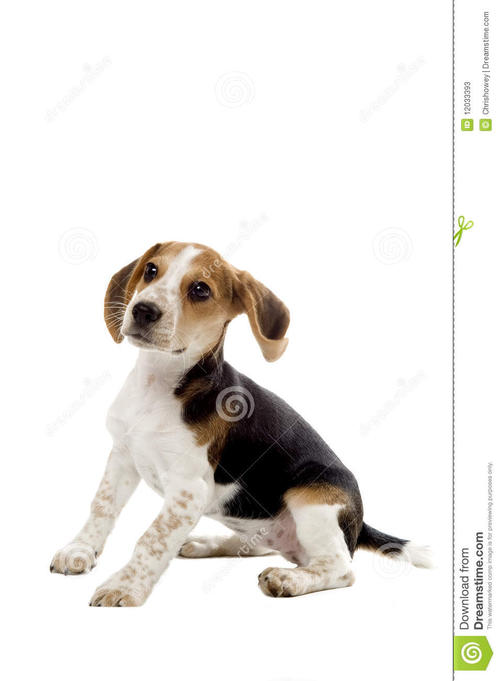dog: (46, 236, 437, 608)
